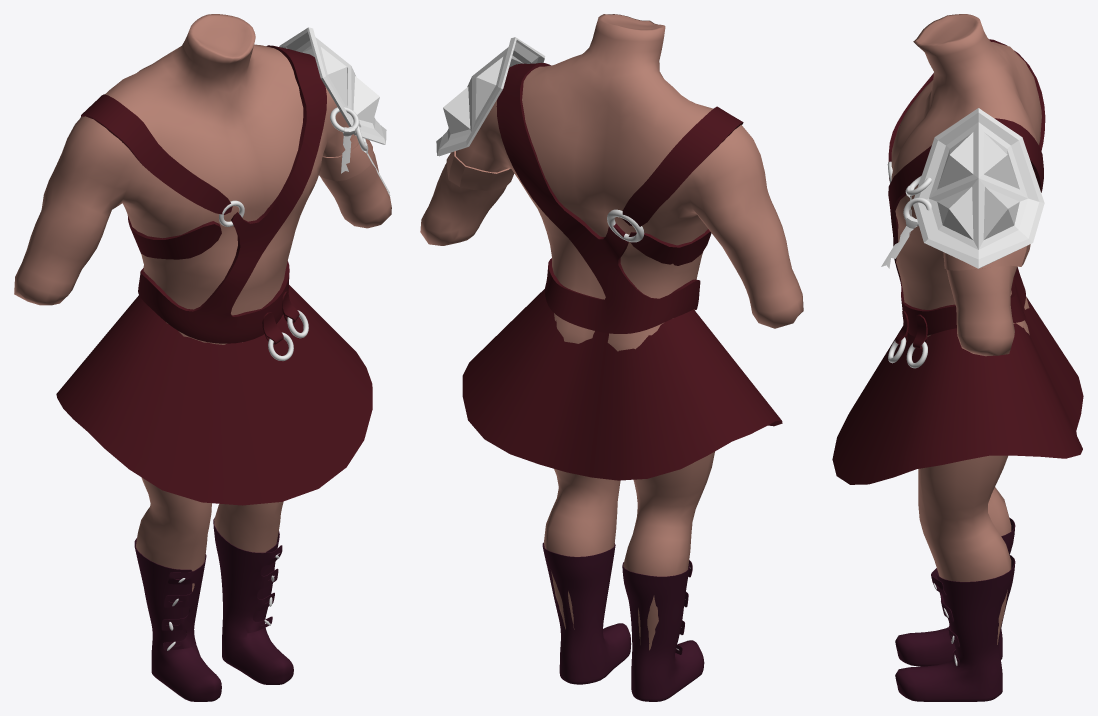
The model's file is Supermmado.fbx.
3 views of the same model, side by side, from view 1: azimuth 30°, elevation 25°; view 2: azimuth 150°, elevation 25°; view 3: azimuth 270°, elevation 25° (orthographic).
Visible parts, largest first — view 1: RemeshMan, skirt, BITTSS, Leatherstrap, topleatherstrap, shoulder, strapagain, BicepThing; view 2: RemeshMan, skirt, BITTSS, Leatherstrap, topleatherstrap, shoulder, strapagain, BicepThing; view 3: RemeshMan, skirt, shoulder, BITTSS, Leatherstrap, BicepThing, topleatherstrap, Stripthing.
Part boxes in pixels (<box>): RemeshMan: <box>14,14,391,591</box>; skirt: <box>56,285,372,505</box>; BITTSS: <box>134,517,293,701</box>; Leatherstrap: <box>138,45,326,343</box>; topleatherstrap: <box>80,94,232,214</box>; shoulder: <box>279,27,386,144</box>; strapagain: <box>127,215,221,259</box>; BicepThing: <box>319,139,373,181</box>; RemeshMan: <box>420,14,803,650</box>; skirt: <box>462,289,782,480</box>; BITTSS: <box>542,542,704,701</box>; Leatherstrap: <box>496,62,700,333</box>; topleatherstrap: <box>622,106,743,226</box>; shoulder: <box>436,37,545,156</box>; strapagain: <box>628,229,711,265</box>; BicepThing: <box>446,151,514,190</box>; RemeshMan: <box>891,14,1041,644</box>; skirt: <box>832,297,1083,484</box>; shoulder: <box>913,108,1044,268</box>; BITTSS: <box>895,517,1015,701</box>; Leatherstrap: <box>888,118,1043,336</box>; BicepThing: <box>943,244,1030,270</box>; topleatherstrap: <box>888,39,1045,161</box>; Stripthing: <box>881,216,917,268</box>.
Size of the model in its own units: 723 by 1212 by 421.
